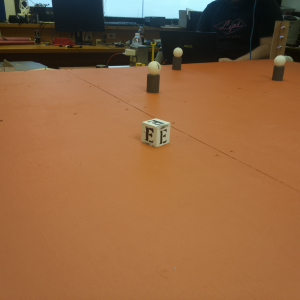blockE: (142, 117, 171, 148)
corner: (270, 18, 290, 58)
obstacle: (145, 60, 161, 94), (271, 54, 287, 83), (171, 46, 183, 70)
